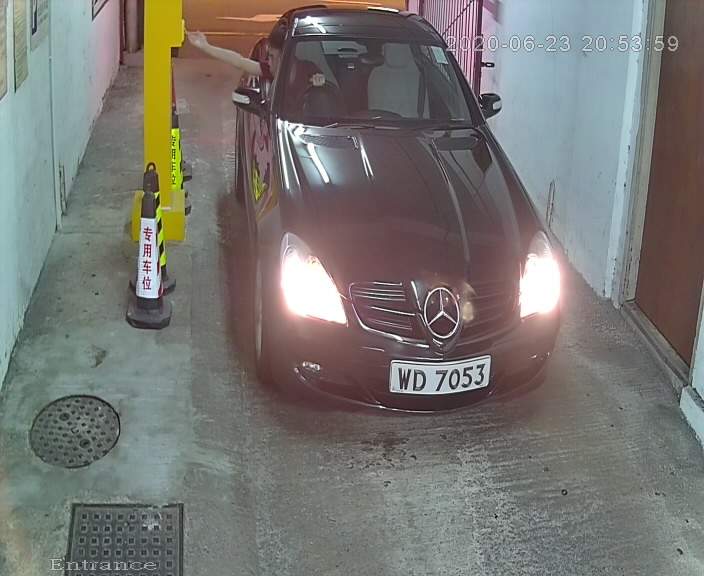privatecar: (223, 2, 578, 428)
